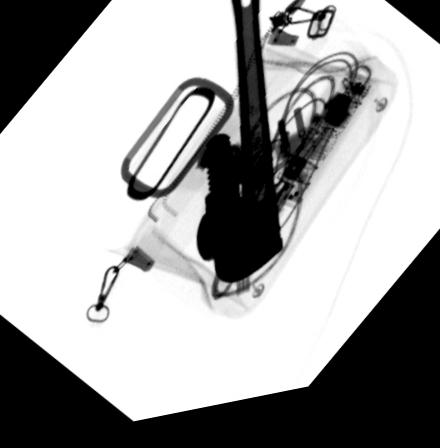Wrench: (192, 0, 284, 297)
